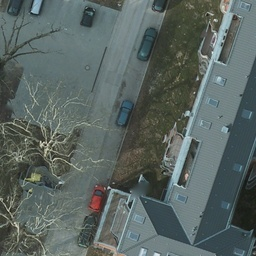car: (76, 214, 98, 248), (136, 26, 153, 61), (88, 183, 106, 212), (116, 98, 133, 127), (78, 7, 96, 29), (28, 1, 43, 17)
